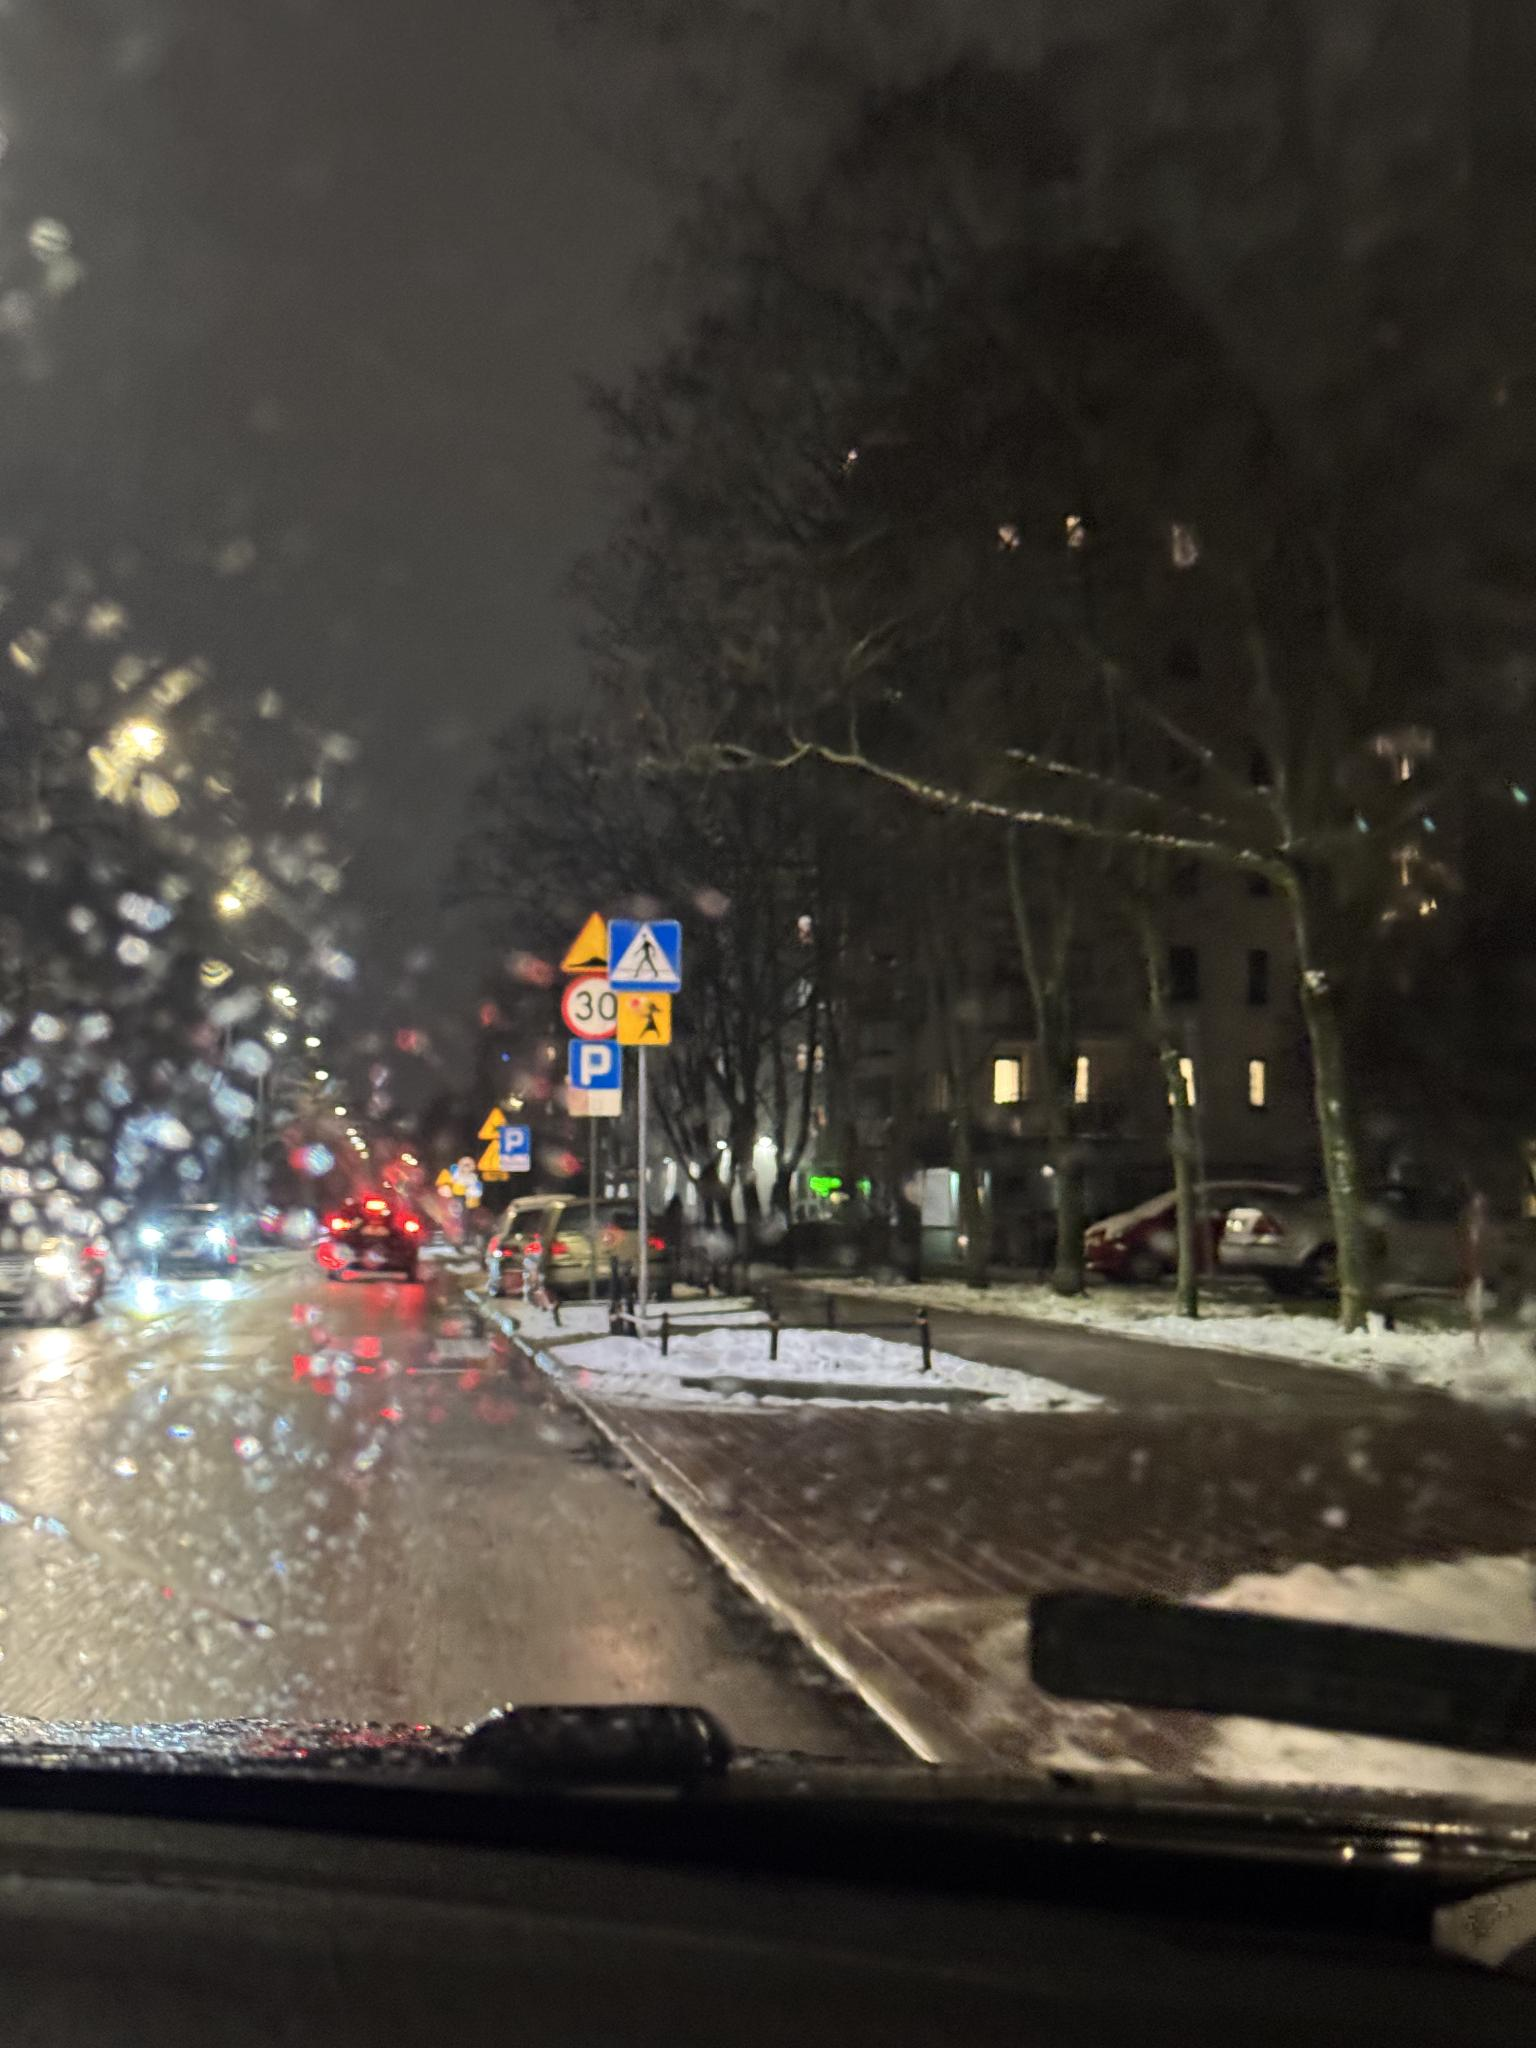information: (607, 919, 682, 993), (568, 1039, 623, 1090), (500, 1127, 531, 1156)
other: (618, 992, 674, 1048), (568, 1090, 620, 1116), (500, 1156, 531, 1171), (482, 1171, 508, 1180)
prohibitory: (565, 977, 615, 1039)
warning: (558, 911, 610, 976), (479, 1106, 508, 1138), (478, 1140, 500, 1169)
